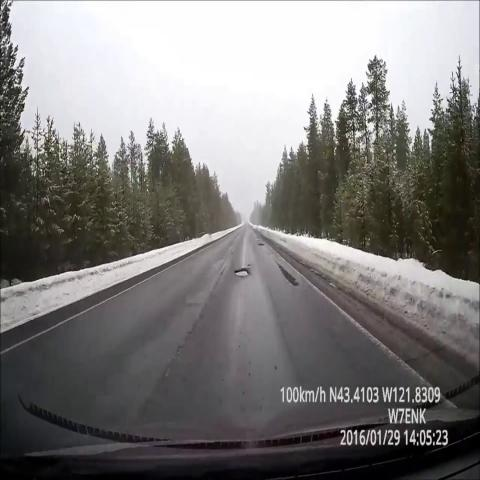pothole: (272, 261, 301, 294), (231, 259, 257, 281), (251, 233, 267, 255)
